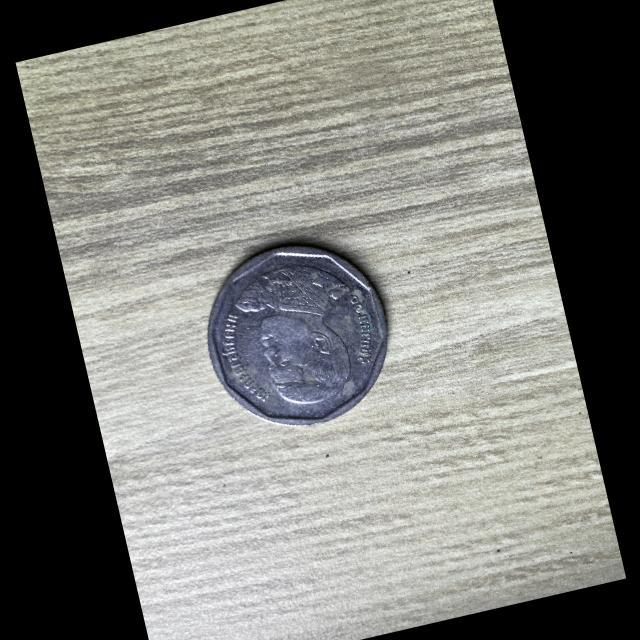5 Bath: (206, 244, 393, 431)
